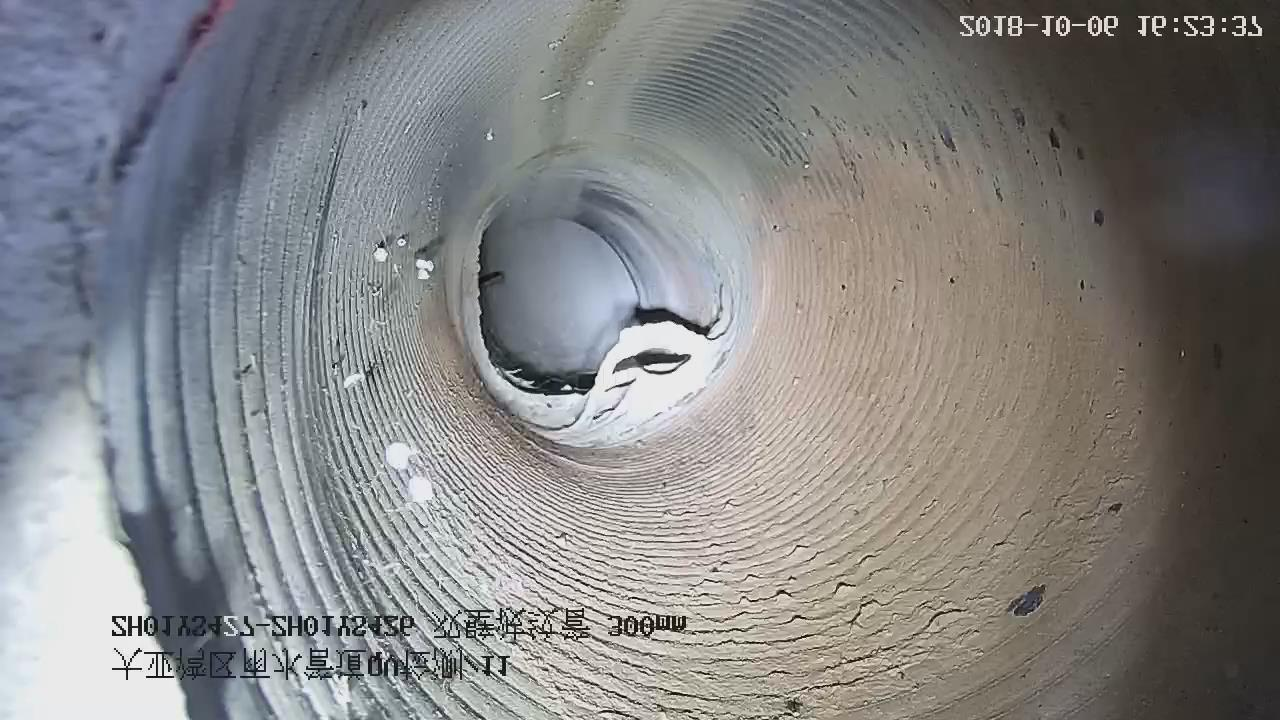JKCL: (451, 193, 750, 453)
